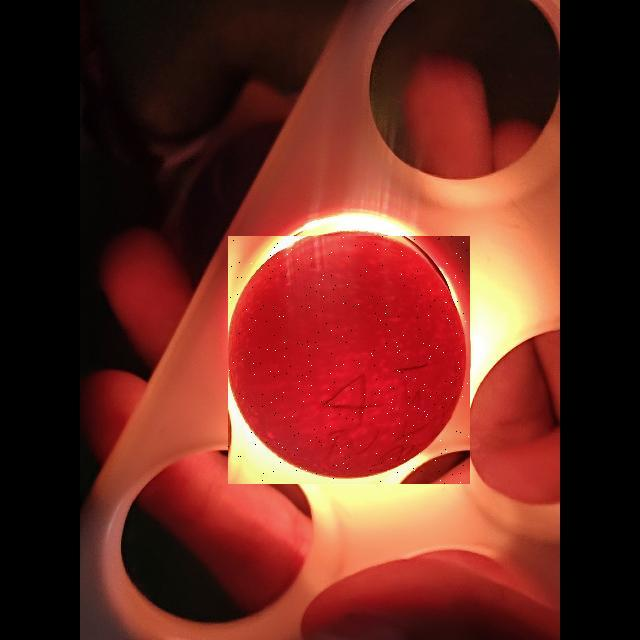Infertile: (228, 236, 470, 484)
